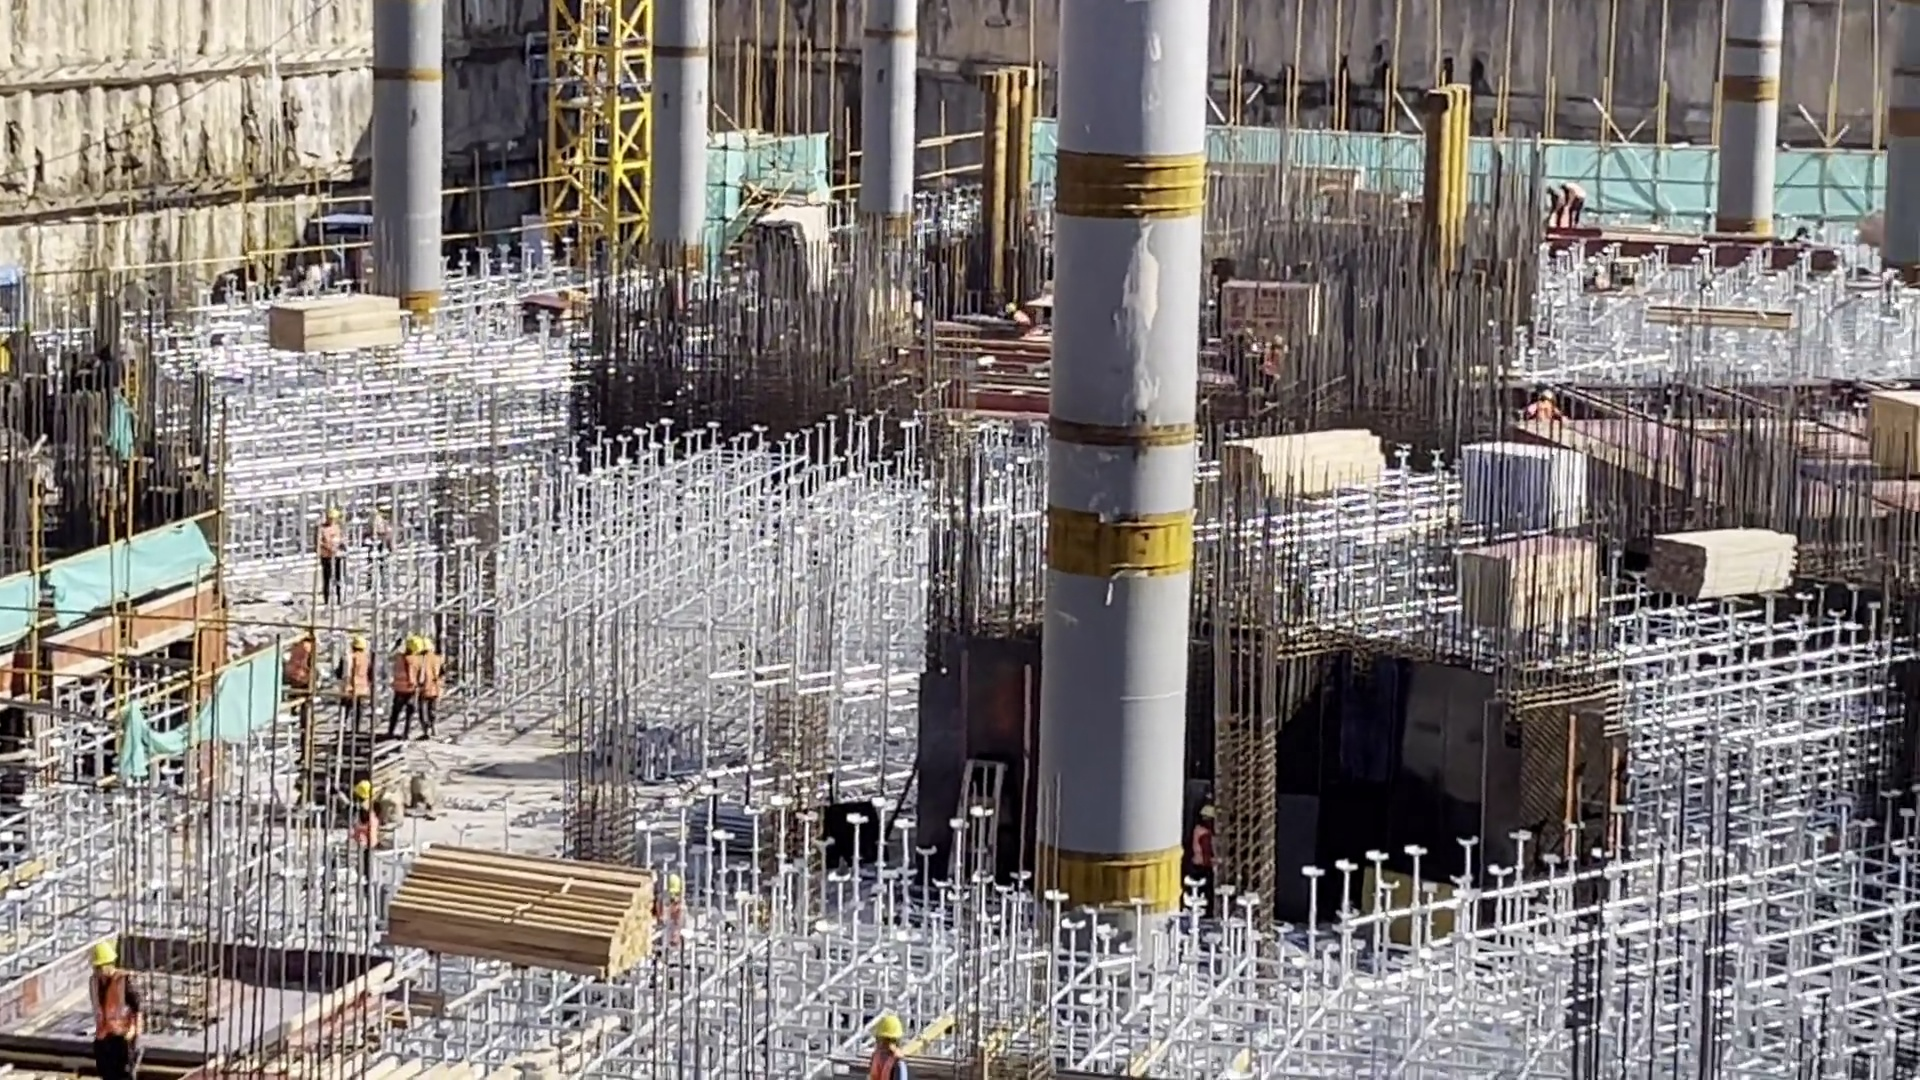helmet: (88, 941, 118, 968), (872, 1015, 903, 1039), (352, 780, 373, 800), (659, 874, 681, 891), (347, 635, 368, 649)
person: (88, 942, 145, 1080), (334, 780, 384, 918), (412, 639, 447, 743), (655, 875, 685, 987), (314, 509, 346, 607), (340, 637, 370, 733), (388, 636, 417, 736), (867, 1011, 908, 1080), (1190, 803, 1218, 891), (285, 631, 319, 693), (1522, 386, 1572, 421), (1560, 180, 1588, 226), (1545, 184, 1566, 229), (997, 304, 1034, 326)
vest: (90, 975, 137, 1037), (344, 650, 370, 699), (414, 654, 443, 698), (392, 652, 418, 696), (316, 524, 344, 557)
